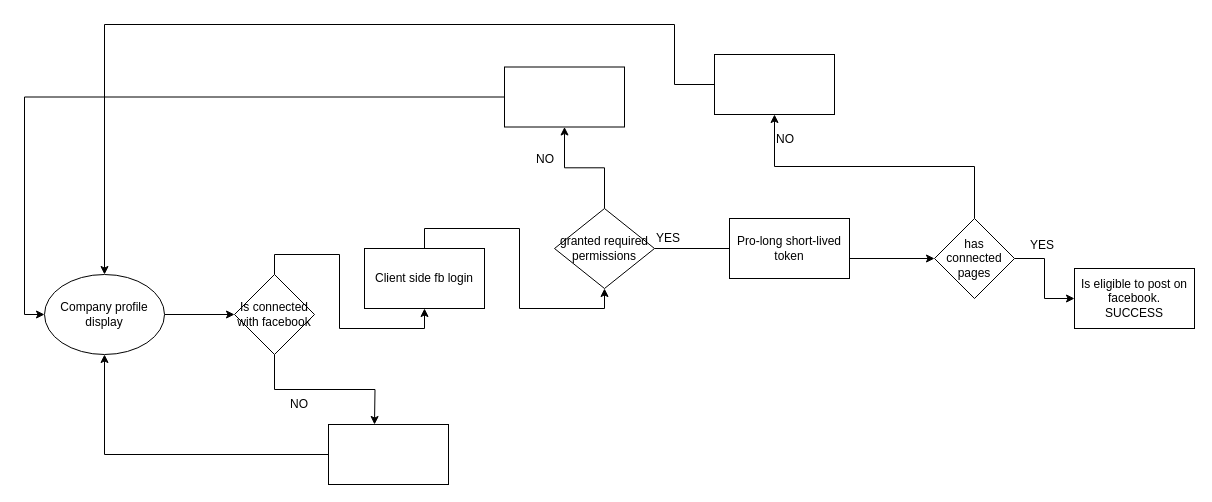
Image size: 1212x502. Some labels were removed from this diagram. Each missing label, with the centre of its shape:
Request fb account creation: the point at 388,454
Request page creation: the point at 774,84
Request required permissions: the point at 564,96
